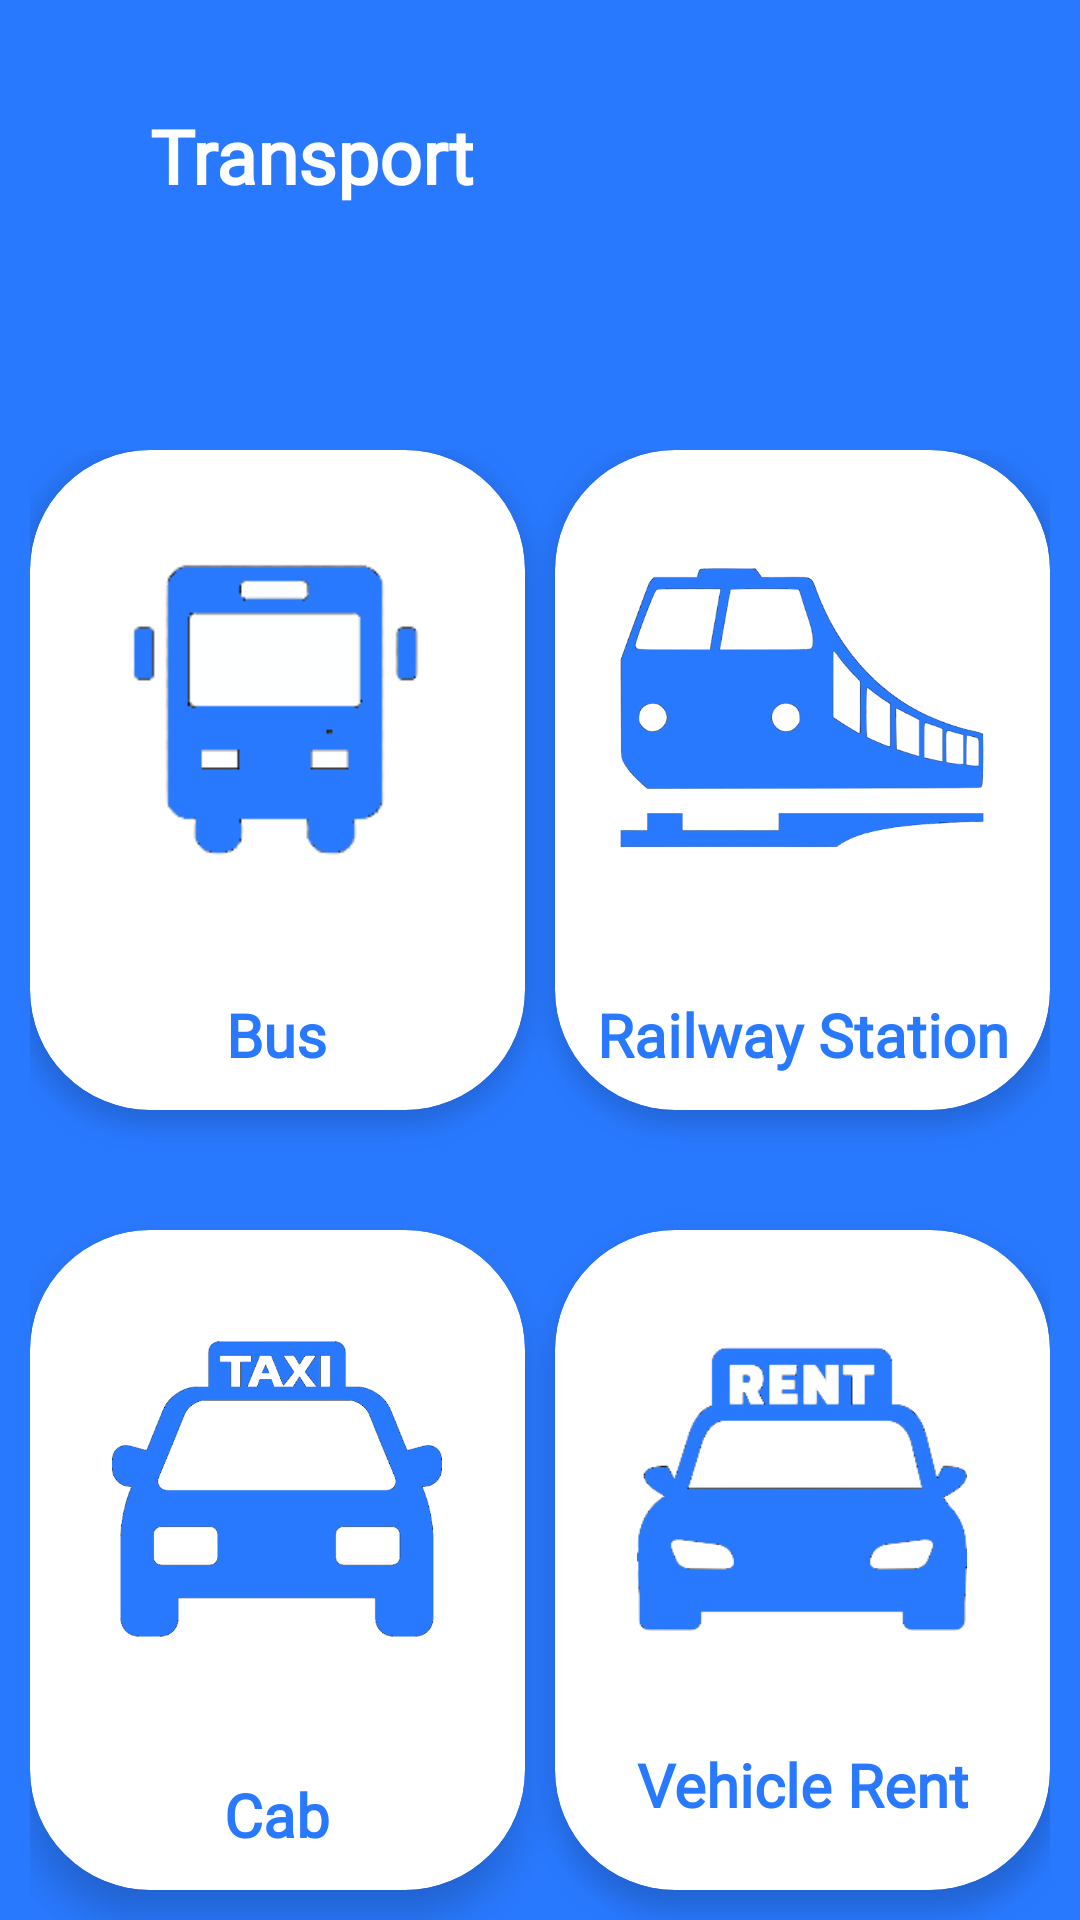

Point at icon controls on the screen. Image size 1080w x 1920h, points as point (x, y).
busnew: point (275, 709)
carnew: point (802, 1489)
